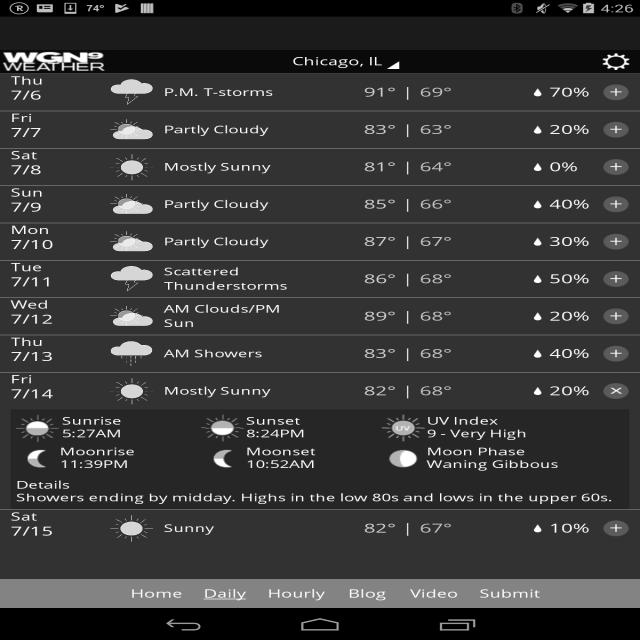ImageButton: (596, 48, 636, 74)
TextView: (157, 74, 303, 402), (343, 63, 463, 395), (4, 49, 82, 403), (505, 80, 587, 404), (4, 512, 627, 549), (8, 473, 614, 508), (126, 578, 560, 604), (425, 402, 558, 468), (48, 414, 138, 473)
